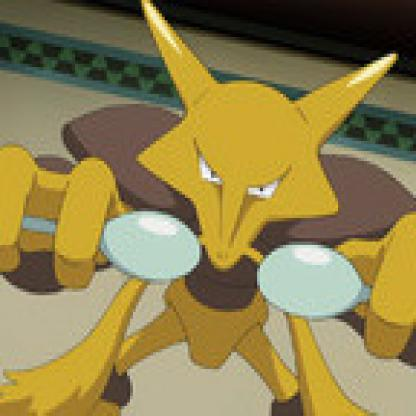Alakazam: (13, 1, 414, 414)
